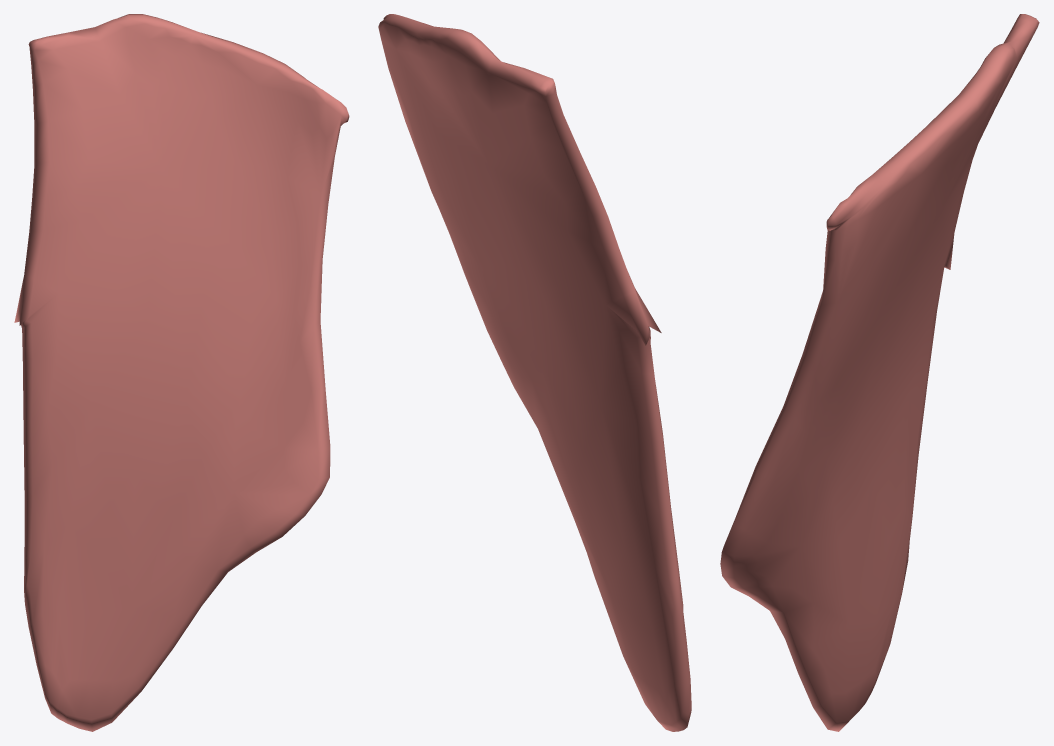
The picture shows the model from 3 angles, left to right: view 1: azimuth 30°, elevation 25°; view 2: azimuth 150°, elevation 25°; view 3: azimuth 270°, elevation 25°; orthographic projection. The views are drawn at different scales.
Parts seen in each view (by area): view 1: ZA_244b0a5bed425e7f; view 2: ZA_244b0a5bed425e7f; view 3: ZA_244b0a5bed425e7f.
Part boxes in pixels (x1,y1,x2,y2): ZA_244b0a5bed425e7f: [14, 14, 349, 731]; ZA_244b0a5bed425e7f: [378, 14, 691, 731]; ZA_244b0a5bed425e7f: [720, 14, 1039, 731].
Size of the model in its own units: 0.00811 by 0.0169 by 0.00656.
